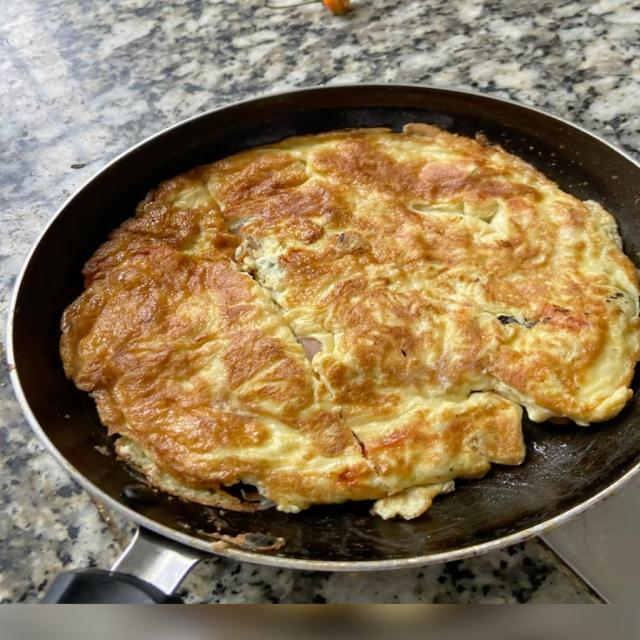omelette: (61, 124, 639, 518)
